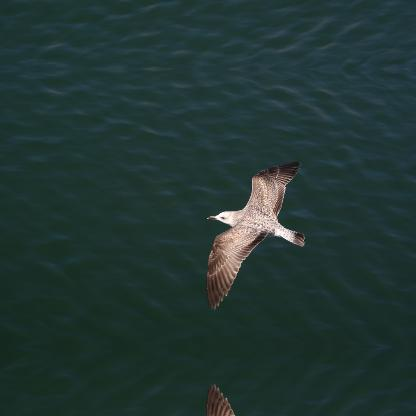Bird: (198, 158, 308, 304)
